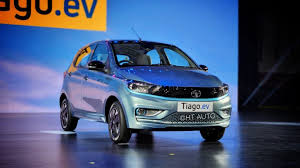Tiago: (54, 36, 234, 148)
